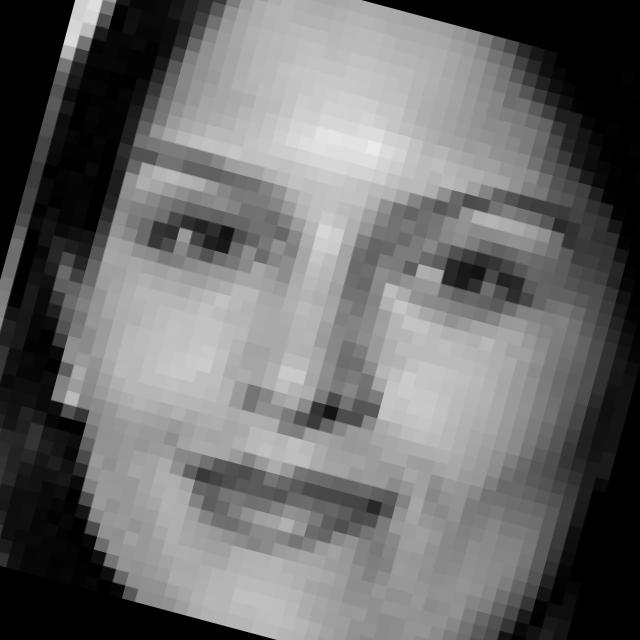neutral: (29, 80, 604, 618)
